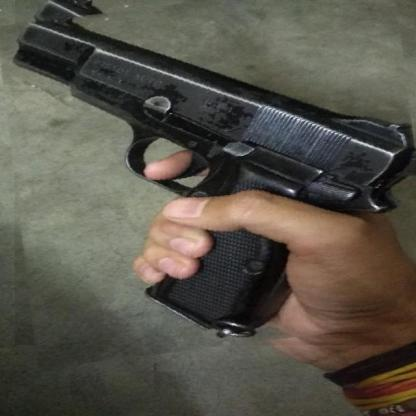handgun: (5, 0, 416, 356)
